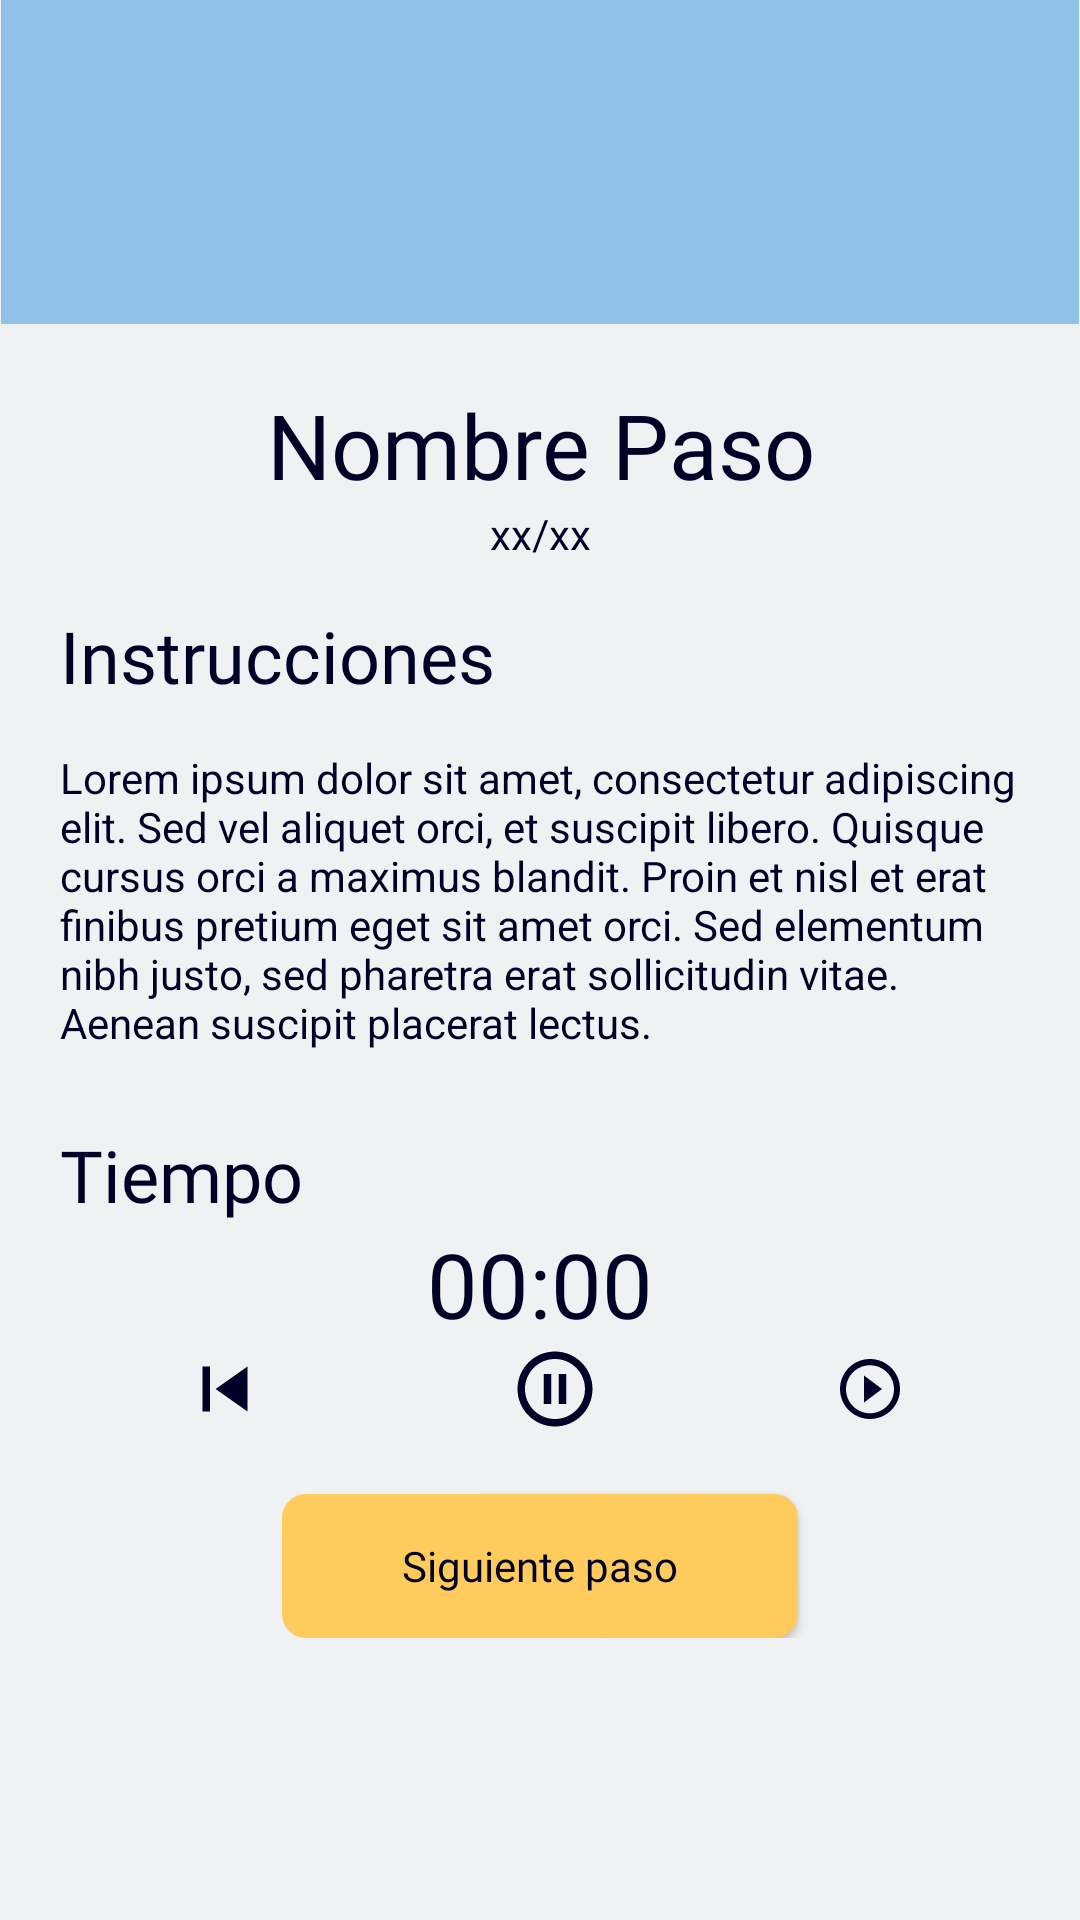

Where icons sit on this 1080×1920 app screen, as (x1, y1, x2, y2):
Pausa: (517, 1351, 593, 1427)
play circle: (840, 1359, 900, 1419)
Reset: (202, 1366, 248, 1412)
